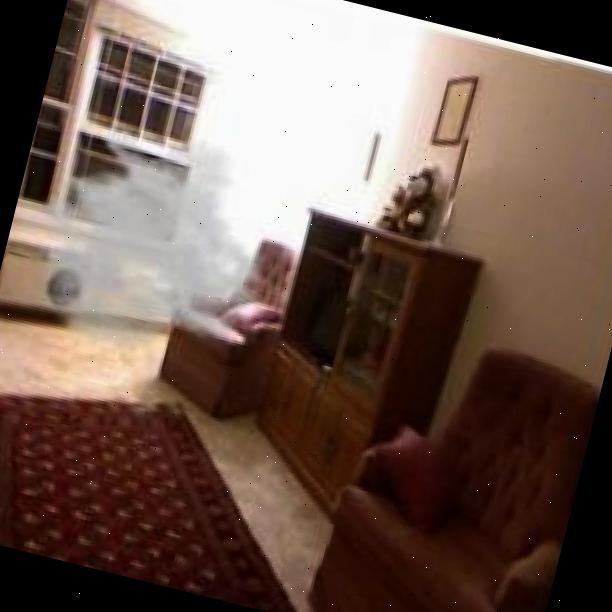smoke: (0, 97, 304, 381)
